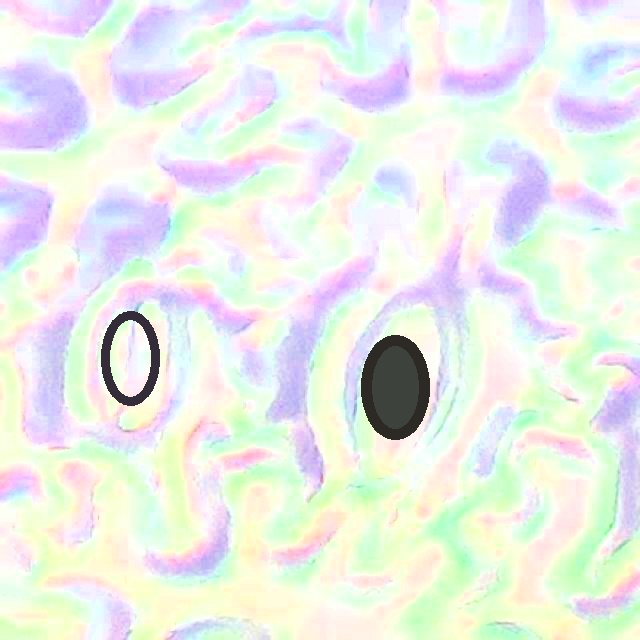close: (362, 336, 429, 439), (100, 309, 159, 407)
